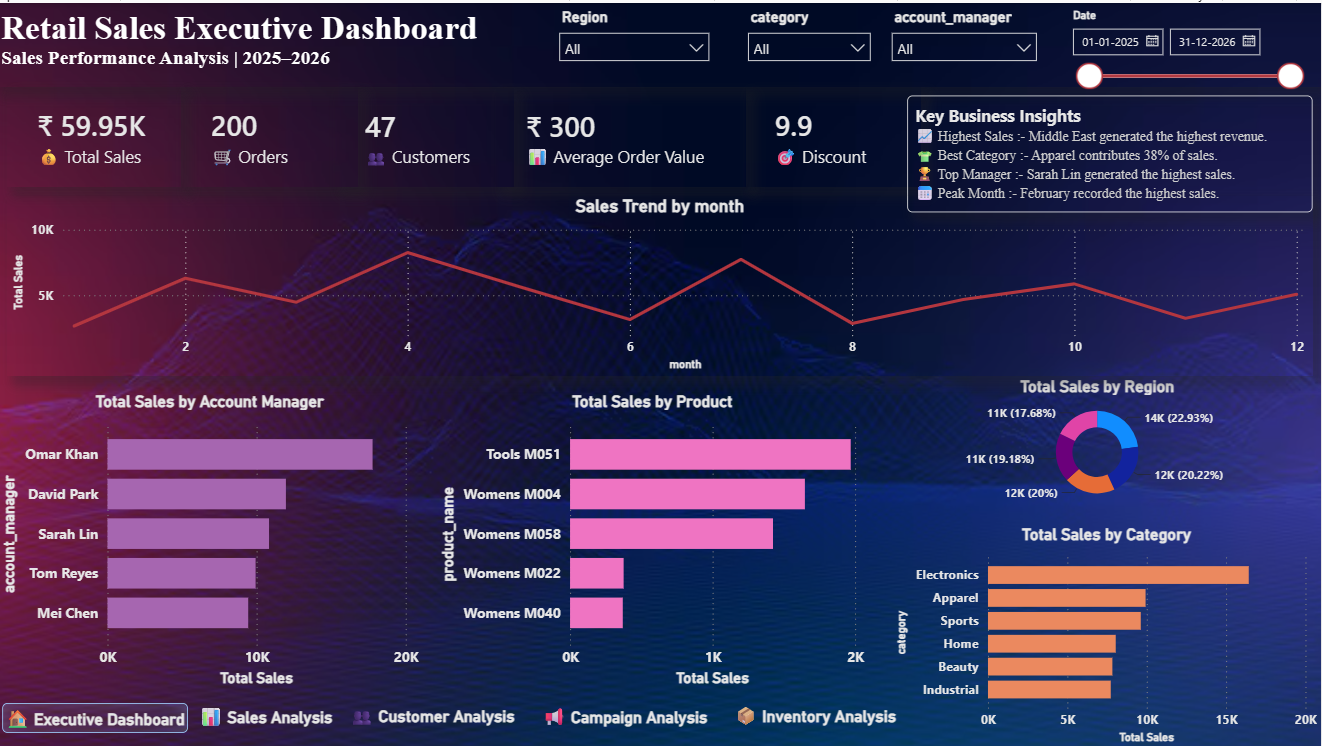

This screenshot's page, from the dashboard's own definition file:
{"tool":"powerbi","page":{"name":"Executive Dashboard","canvas":[1280,720],"ordinal":0},"visuals":[{"type":"textbox","box":[0,0,1280,80.8],"z":0},{"type":"cardVisual","fields":{"Data":["_measures.Total Sales"]},"box":[10.9,80.8,167.7,96.5],"z":1000},{"type":"barChart","title":"Total Sales by Category","fields":{"Category":["dim_product.category"],"Y":["_measures.Total Sales"]},"box":[863.8,504.6,416.2,215.2],"z":2000},{"type":"barChart","title":"Total Sales by Product ","fields":{"Y":["_measures.Total Sales"],"Category":["dim_product.product_name"]},"box":[424,374.6,419.9,289.5],"z":3000},{"type":"barChart","title":"Total Sales by Account Manager","fields":{"Y":["_measures.Total Sales"],"Category":["dim_customer.account_manager"]},"box":[0,375.2,412.6,289.5],"z":4000},{"type":"slicer","fields":{"Values":["dim_date.Date"]},"box":[1026.7,0,243.7,89.3],"z":5000},{"type":"slicer","fields":{"Values":["dim_geo.region"]},"box":[533.2,0,165.3,62.7],"z":6000},{"type":"slicer","fields":{"Values":["dim_product.category"]},"box":[715.4,0,138.7,62.7],"z":7000},{"type":"slicer","fields":{"Values":["dim_customer.account_manager"]},"box":[854.2,0,160.5,62.7],"z":8000},{"type":"cardVisual","fields":{"Data":["_measures.Total Orders"]},"box":[178.6,80.8,170.1,96.5],"z":9000},{"type":"cardVisual","fields":{"Data":["_measures.Total Customers"]},"box":[326.9,82,172.5,95.3],"z":10000},{"type":"cardVisual","fields":{"Data":["_measures.Average Order Value"]},"box":[482.6,82,241.3,95.3],"z":11000},{"type":"cardVisual","fields":{"Data":["_measures.Total Discount"]},"box":[722.7,80.8,170.1,96.5],"z":12000},{"type":"donutChart","title":"Total Sales by Region","fields":{"Category":["dim_geo.region"],"Y":["_measures.Total Sales"]},"box":[853.8,360.6,417.6,128.3],"z":13000},{"type":"textbox","box":[879.6,89.2,391.1,112.5],"z":14000},{"type":"actionButton","title":"📊 Sales Analysis","box":[194.9,676.5,146.8,28.5],"z":15000},{"type":"actionButton","title":"👥 Customer Analysis","box":[341.7,675.1,166.8,28.5],"z":16000},{"type":"actionButton","title":"📢 Campaign Analysis","box":[526.9,676.5,172.5,29.9],"z":17000},{"type":"actionButton","title":"📦 Inventory Analysis","box":[712.2,675.1,166.8,28.5],"z":18000},{"type":"actionButton","title":"🏠 Executive Dashboard","box":[5.5,675.1,179.6,28.5],"z":19000},{"type":"lineChart","title":"Sales Trend by month","fields":{"Y":["_measures.Total Sales"],"Category":["dim_date.month"]},"box":[11,185.2,1259.7,174.3],"z":20000}]}

Visuals, with their boxes in screenshot pixels (x1, y1, x2, y2), scaled from the page's 1280x720 canvas onto the 1322x746 screenshot:
textbox: 0:0:1321:84
cardVisual - _measures.Total Sales: 11:84:184:184
"Total Sales by Category" barChart: 892:523:1321:745
"Total Sales by Product " barChart: 438:388:872:688
"Total Sales by Account Manager" barChart: 0:389:426:689
slicer - dim_date.Date: 1060:0:1312:93
slicer - dim_geo.region: 551:0:721:65
slicer - dim_product.category: 739:0:882:65
slicer - dim_customer.account_manager: 882:0:1048:65
cardVisual - _measures.Total Orders: 184:84:360:184
cardVisual - _measures.Total Customers: 338:85:516:184
cardVisual - _measures.Average Order Value: 498:85:748:184
cardVisual - _measures.Total Discount: 746:84:922:184
"Total Sales by Region" donutChart: 882:374:1313:507
textbox: 908:92:1312:209
"📊 Sales Analysis" actionButton: 201:701:353:730
"👥 Customer Analysis" actionButton: 353:699:525:729
"📢 Campaign Analysis" actionButton: 544:701:722:732
"📦 Inventory Analysis" actionButton: 736:699:908:729
"🏠 Executive Dashboard" actionButton: 6:699:191:729
"Sales Trend by month" lineChart: 11:192:1312:372
